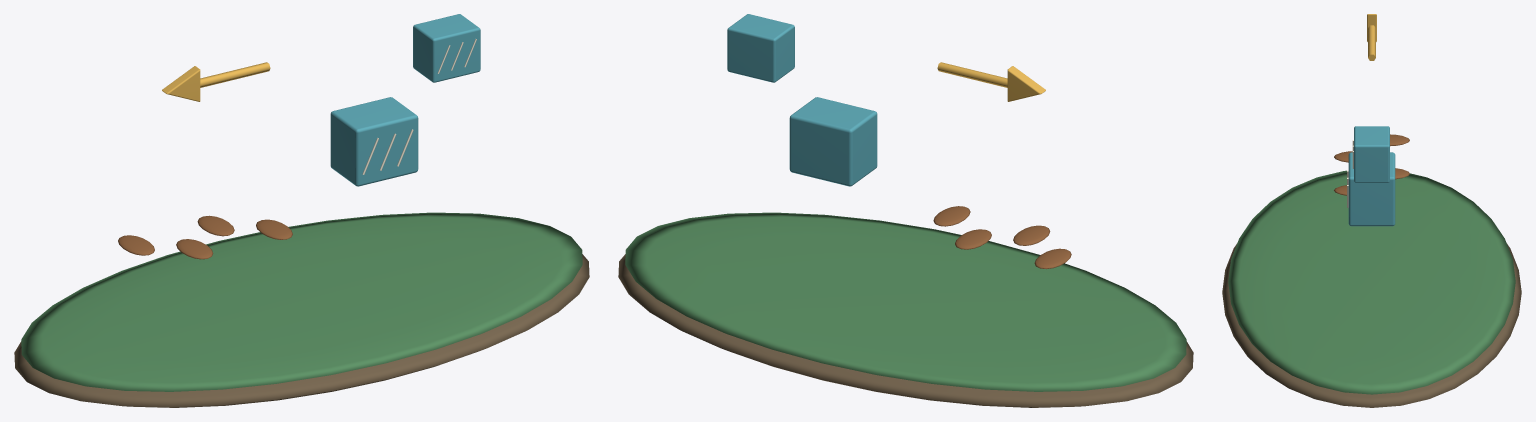
File: winter-walk.glb
3 renders of one model, left to right at view 1: azimuth 30°, elevation 25°; view 2: azimuth 150°, elevation 25°; view 3: azimuth 270°, elevation 25°, orthographic. The views are drawn at different scales.
Parts seen in each view (by area): view 1: winter-walk_surface_01, winter-walk_surface_03, winter-walk_surface_00, winter-walk_surface_02, winter-walk_surface_05, winter-walk_surface_04; view 2: winter-walk_surface_01, winter-walk_surface_03, winter-walk_surface_00, winter-walk_surface_02, winter-walk_surface_05; view 3: winter-walk_surface_01, winter-walk_surface_00, winter-walk_surface_03, winter-walk_surface_02, winter-walk_surface_05.
Part boxes in pixels (x1=…): winter-walk_surface_01: x1=21, y1=212, x2=582, y2=391; winter-walk_surface_03: x1=330, y1=14, x2=480, y2=186; winter-walk_surface_00: x1=14, y1=254, x2=589, y2=407; winter-walk_surface_02: x1=118, y1=215, x2=292, y2=259; winter-walk_surface_05: x1=162, y1=62, x2=270, y2=101; winter-walk_surface_04: x1=362, y1=39, x2=476, y2=174; winter-walk_surface_01: x1=625, y1=212, x2=1186, y2=391; winter-walk_surface_03: x1=727, y1=14, x2=877, y2=186; winter-walk_surface_00: x1=618, y1=254, x2=1193, y2=407; winter-walk_surface_02: x1=933, y1=206, x2=1071, y2=269; winter-walk_surface_05: x1=937, y1=62, x2=1045, y2=101; winter-walk_surface_01: x1=1228, y1=170, x2=1515, y2=394; winter-walk_surface_00: x1=1222, y1=244, x2=1521, y2=407; winter-walk_surface_03: x1=1348, y1=126, x2=1395, y2=226; winter-walk_surface_02: x1=1334, y1=134, x2=1409, y2=195; winter-walk_surface_05: x1=1367, y1=14, x2=1376, y2=60.
Size of the model in its own units: 4.56 by 2.29 by 2.5.
